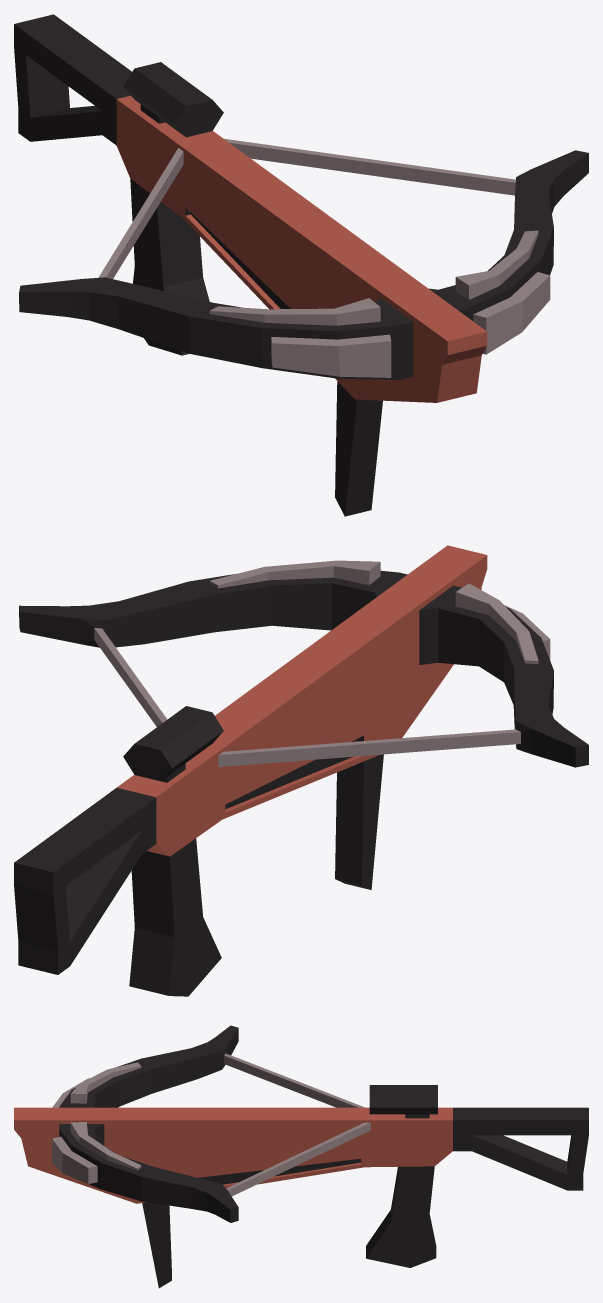
Rendered from crossbow.fbx.
3 views of the same model, one above another, from view 1: azimuth 30°, elevation 25°; view 2: azimuth 150°, elevation 25°; view 3: azimuth 270°, elevation 25° (orthographic). The views are drawn at different scales.
Visible parts, largest first — view 1: crossbow; view 2: crossbow; view 3: crossbow.
Boxes of the visible parts, box(x1,y1,x2,y2) form: crossbow: box(14, 14, 588, 516); crossbow: box(14, 545, 588, 996); crossbow: box(14, 1025, 588, 1288).
Bounding box in the file's own units: 172 × 84.87 × 227.
